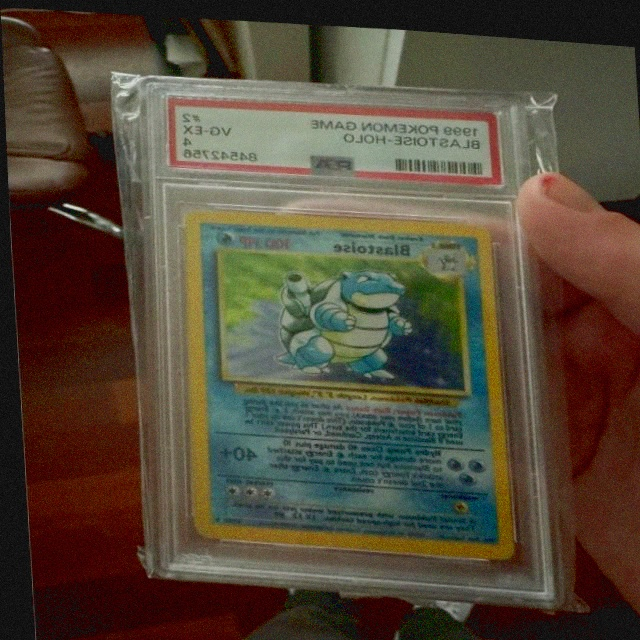card: (177, 203, 511, 552)
